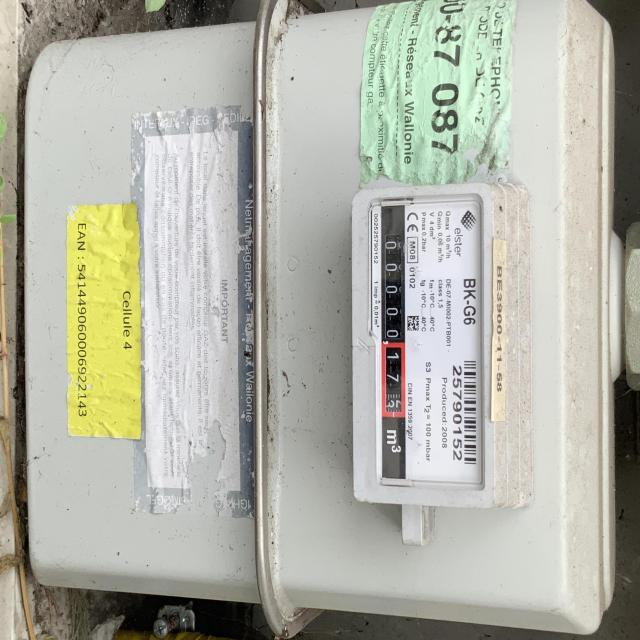gaz_meter: (352, 192, 518, 505)
indication: (379, 204, 407, 422)
